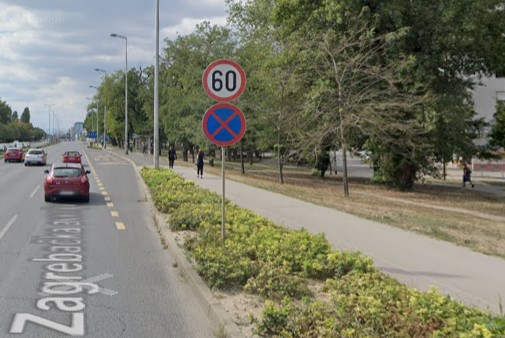Ograničenje brzine 60: (202, 58, 246, 102)
